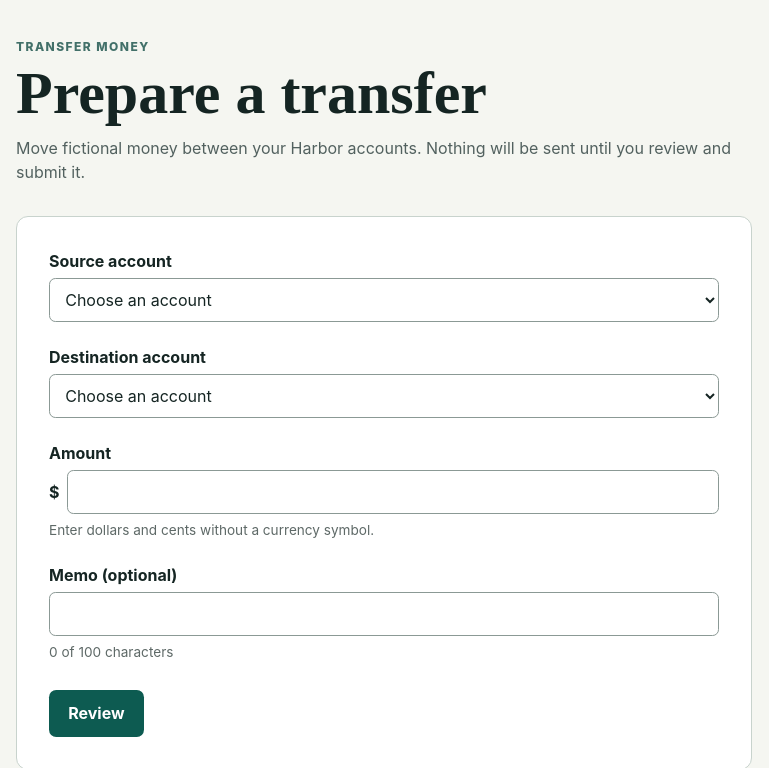
Scenario: transfer form validation › rejects an amount of 0
Step 1. Select "Everyday Checking (•••• 4821) — available $1,250.00" in the dropdown labelled "Source account" → (384, 300), box x1=49 y1=278 x2=719 y2=322
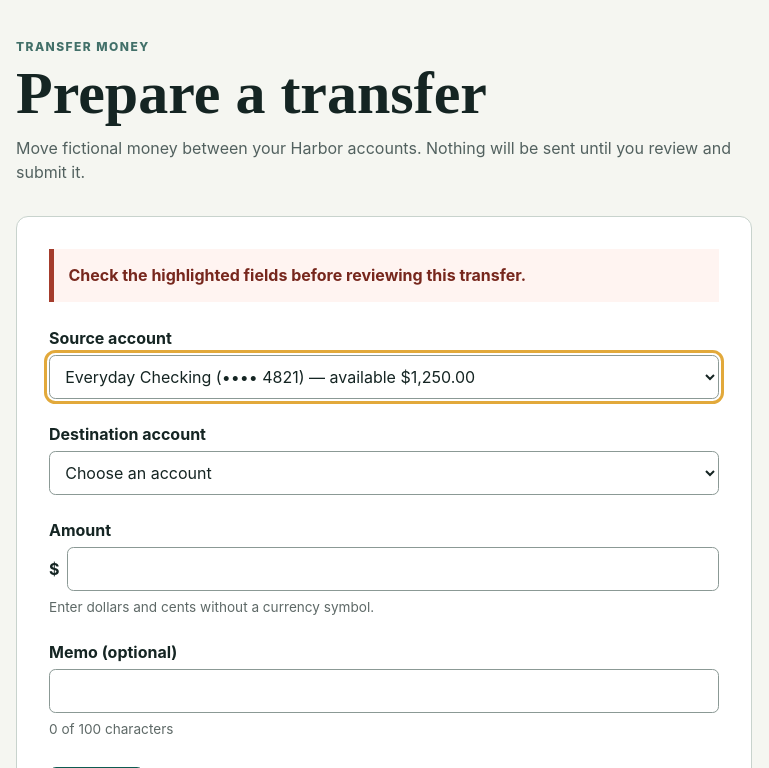
Step 2. Select "Member Savings (•••• 7314)" in the dropdown labelled "Destination account" → (384, 473), box x1=49 y1=451 x2=719 y2=495
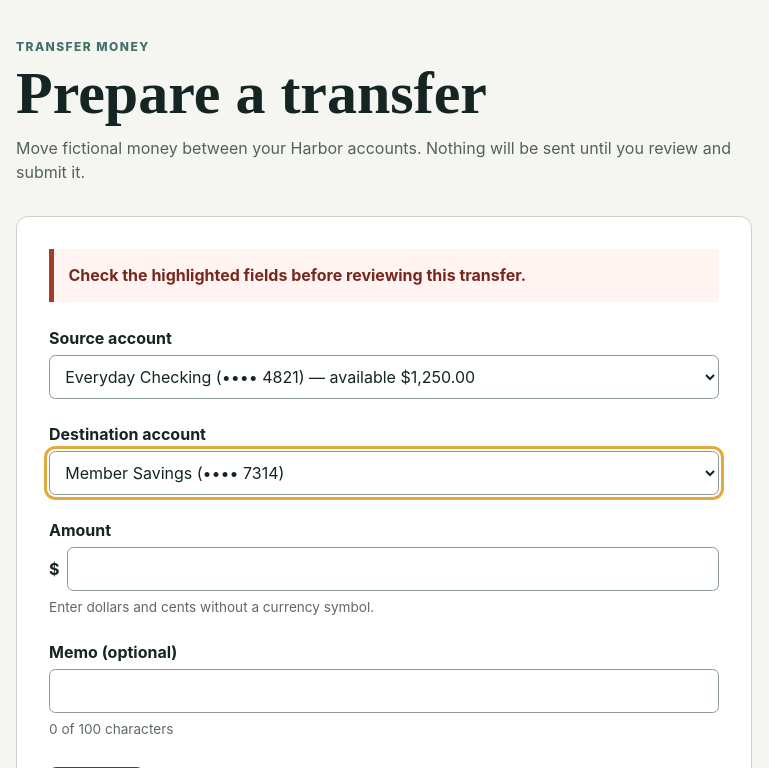
Step 3. Type "0" into the number field labelled "Amount" → (393, 569), box x1=68 y1=547 x2=719 y2=591
(page scrolled)
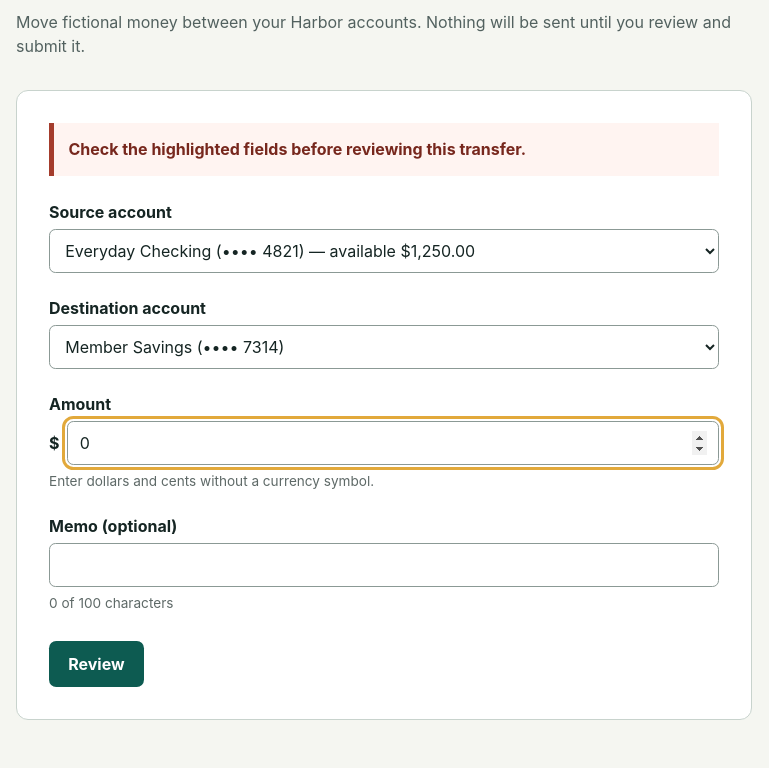
Step 4. Click the button "Review" → (96, 664), box x1=49 y1=641 x2=144 y2=688
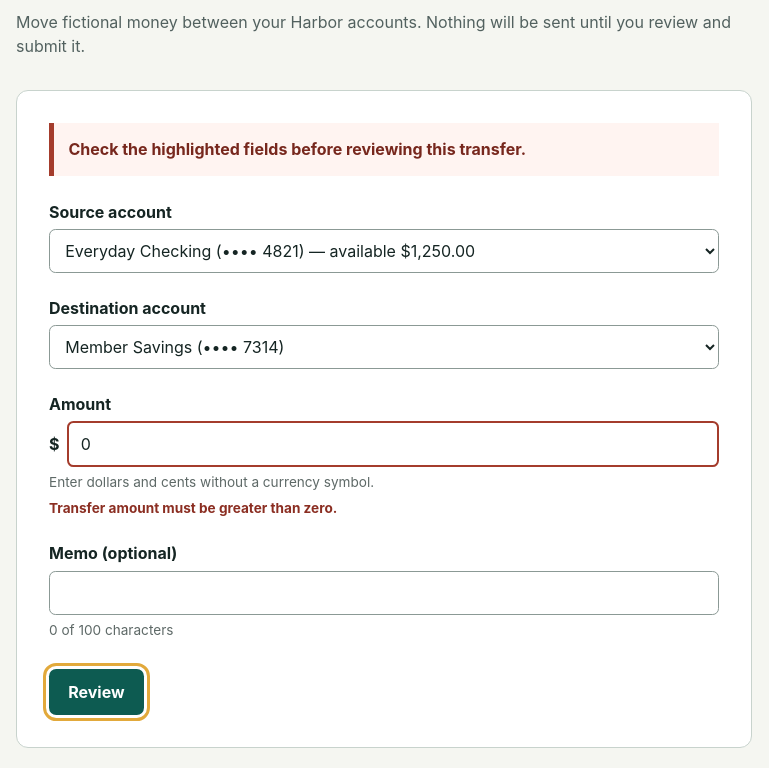
Expected: the text "Transfer amount must be greater than zero." is shown, x1=49 y1=500 x2=337 y2=516
